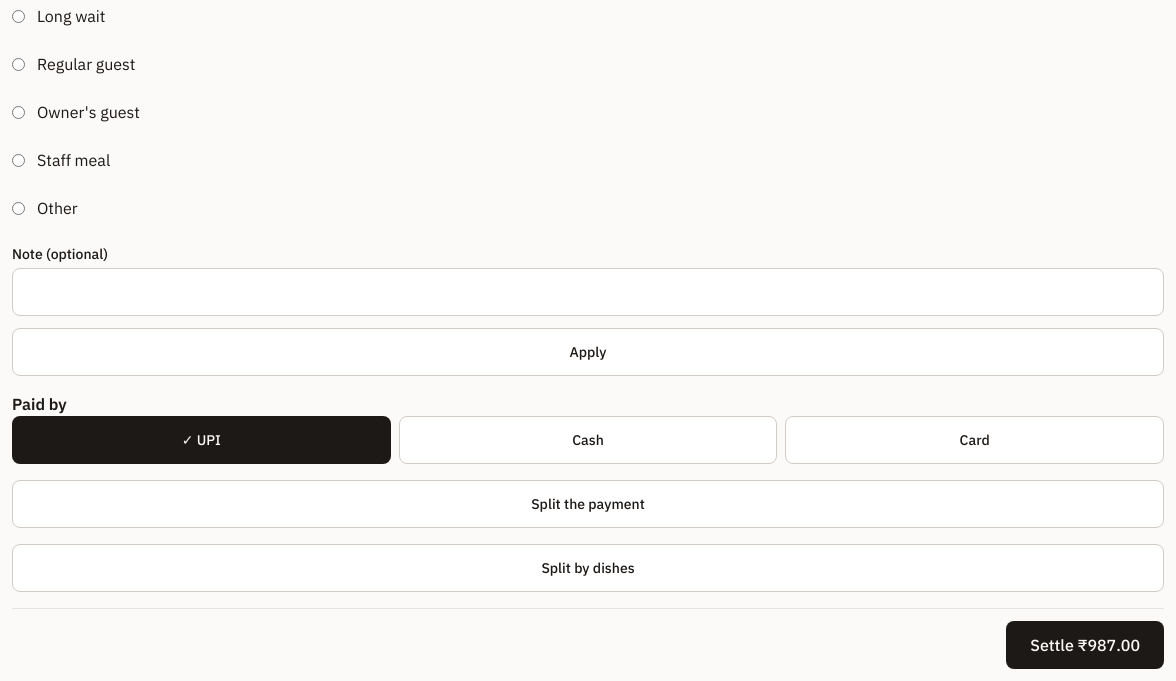
Test case: BillScreen › will not settle a split payment with an amount left blank
(page scrolled)
Click the button "Split the payment".
click(588, 504)  # box [12,480,1164,528]
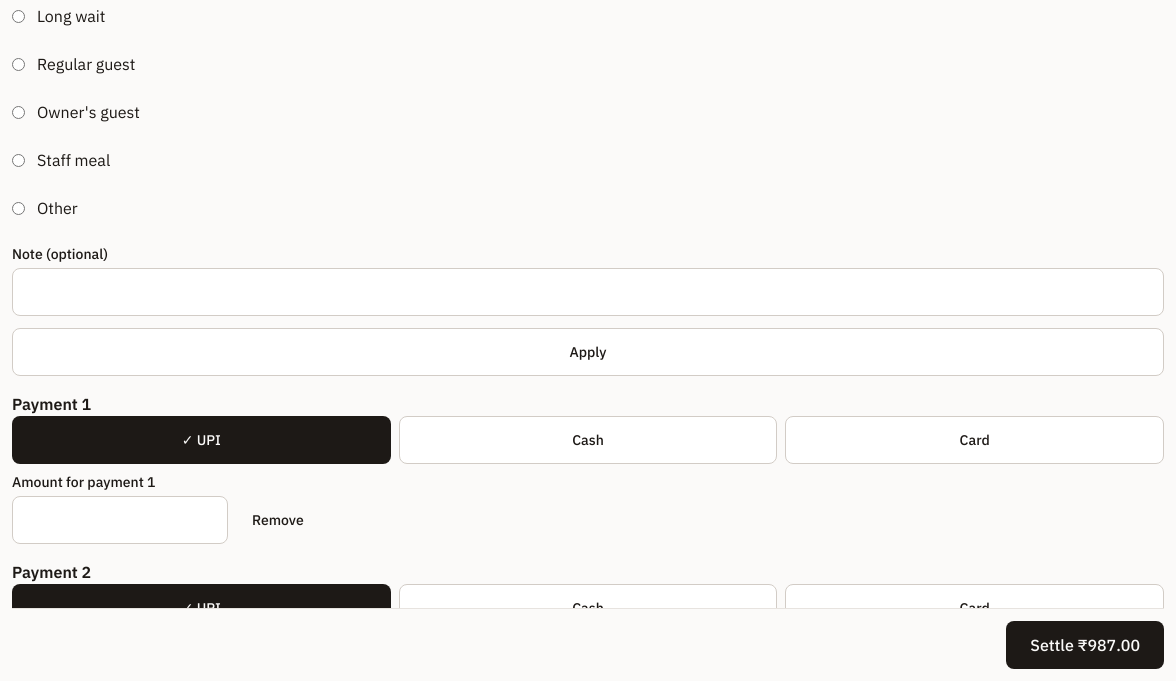
Type "500" into the field labelled "Amount for payment 1".
click(120, 520); type("500")  # box [12,496,228,544]
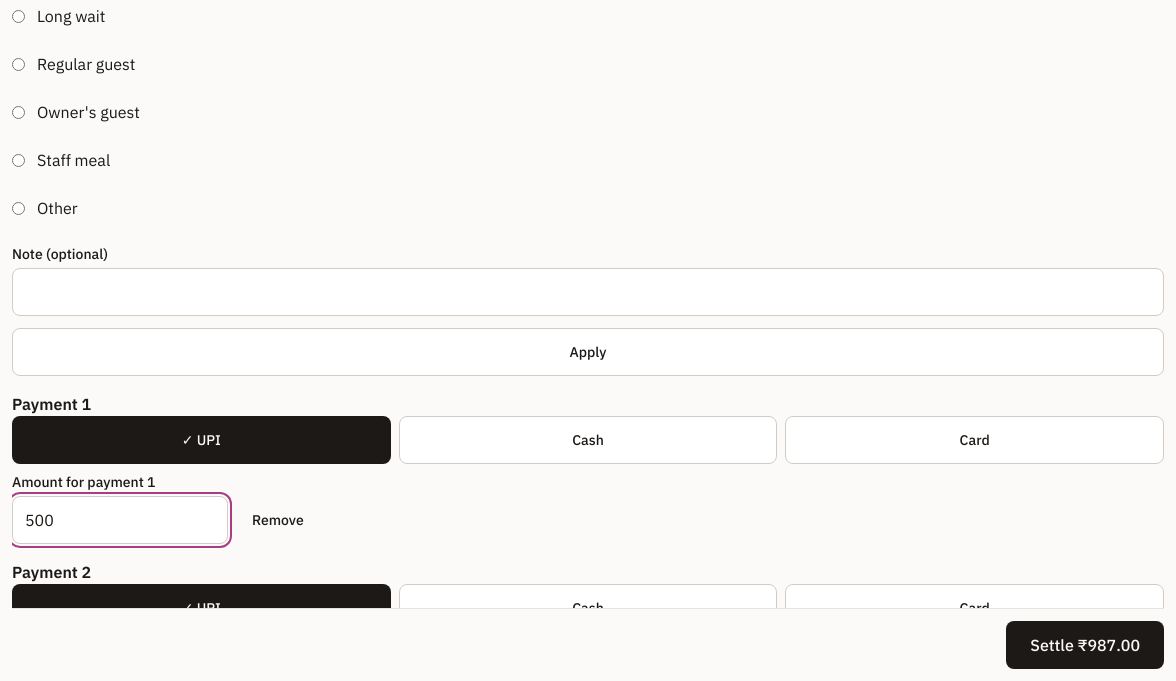
Click the button "Settle ₹987.00".
click(1085, 645)  # box [1006,621,1164,669]
(page scrolled)
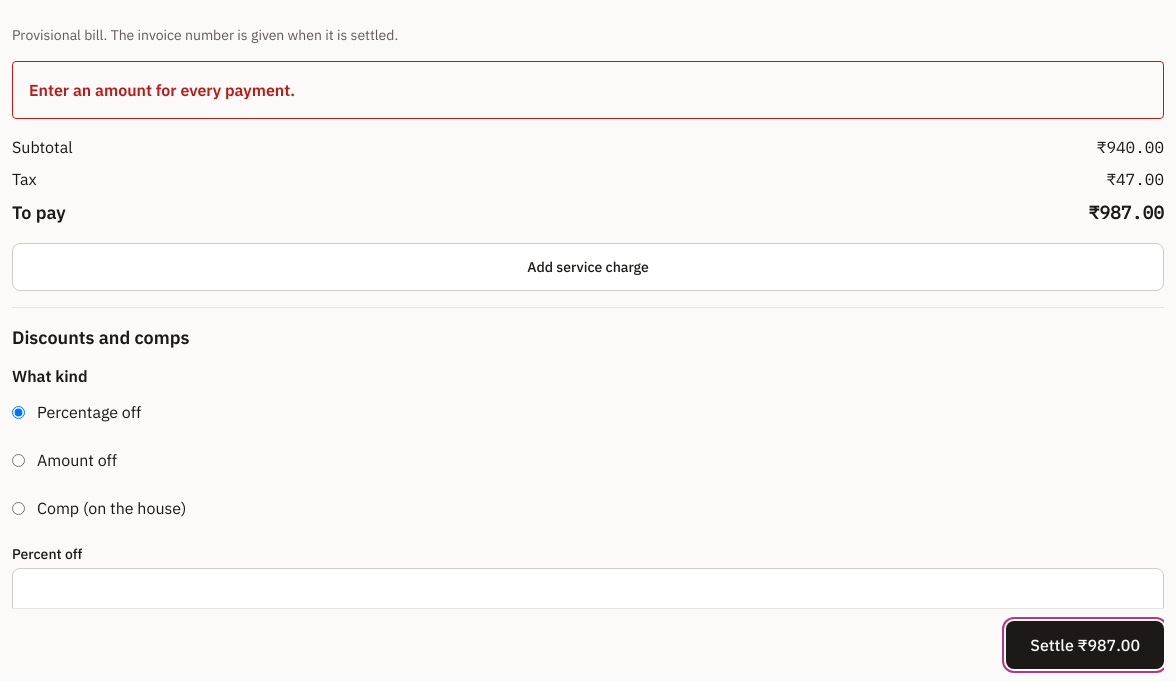
Check: the text "Enter an amount for every payment." is shown, box [29,80,295,100]
